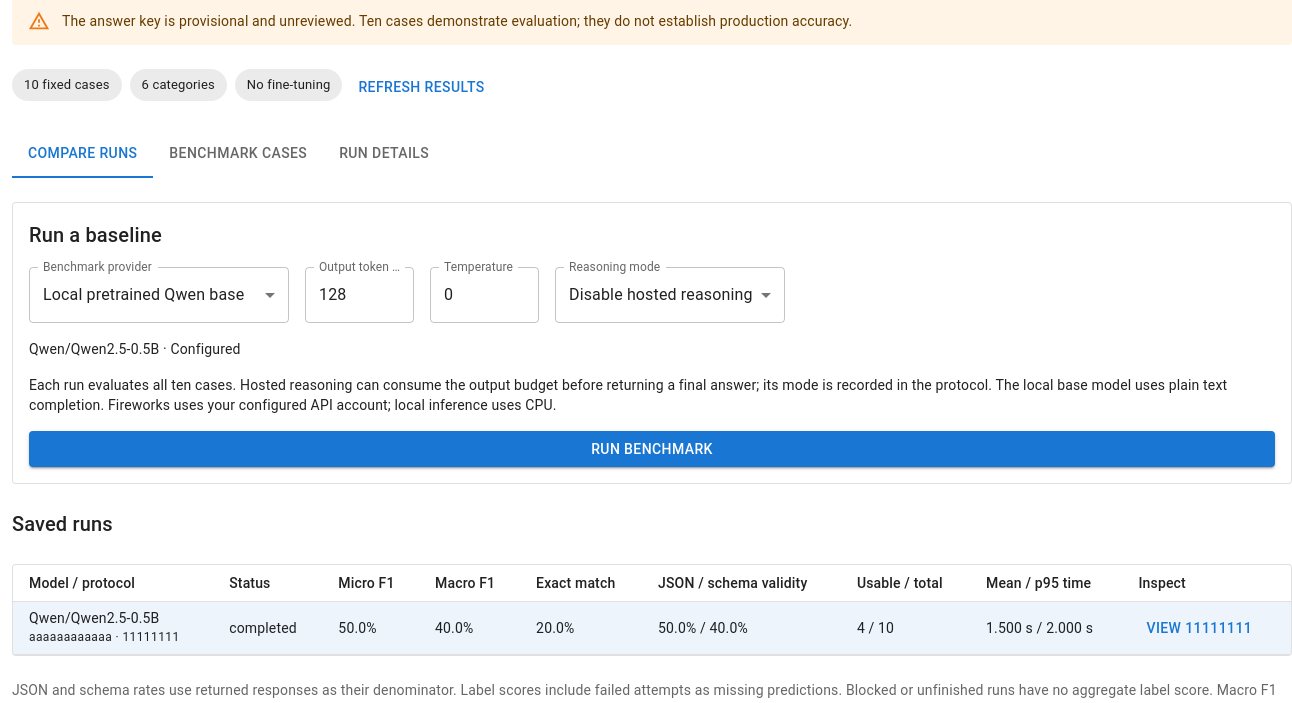
Scenario: shows comparison scores and preserves raw failures in run details
(page scrolled)
Expected: the table named "Baseline comparison" shows "50.0%", x1=338 y1=620 x2=377 y2=636
Click the button "View 11111111" at point(1199, 628), box x1=1138 y1=610 x2=1260 y2=646
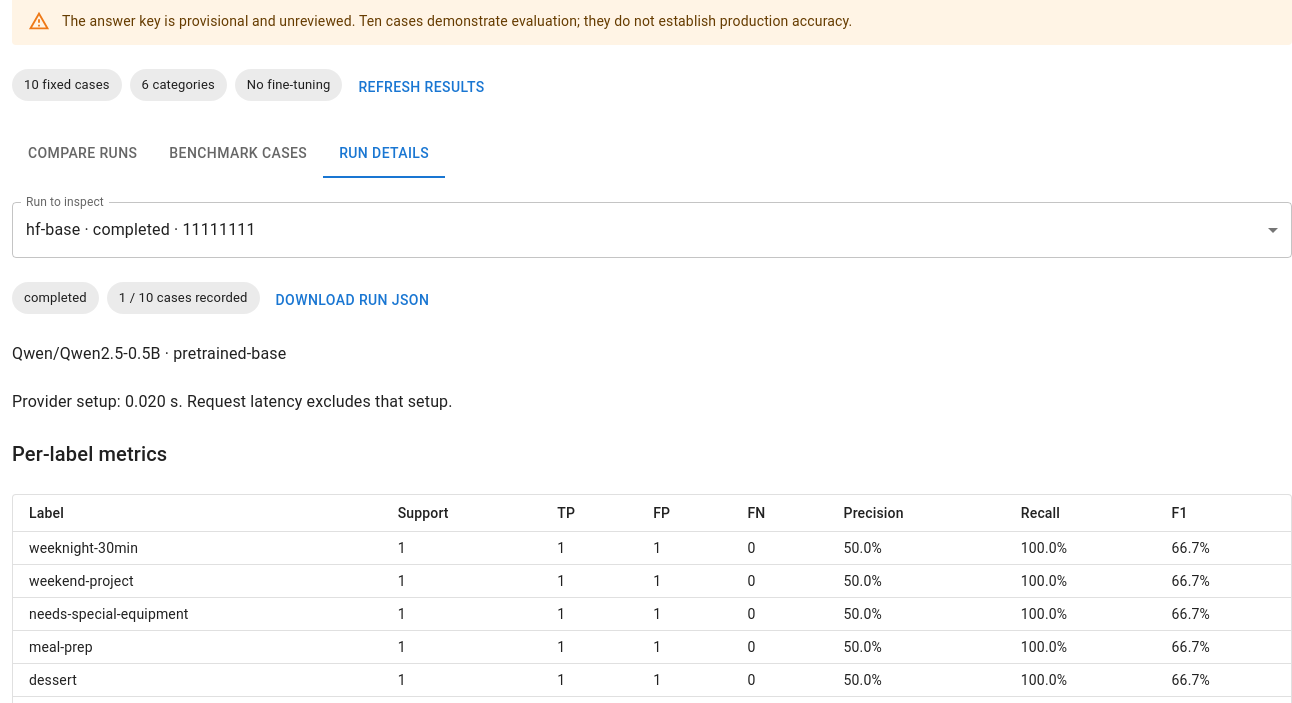
Result: the table named "Per-label metrics" shows "needs-special-equipment" at x1=29 y1=606 x2=188 y2=622
